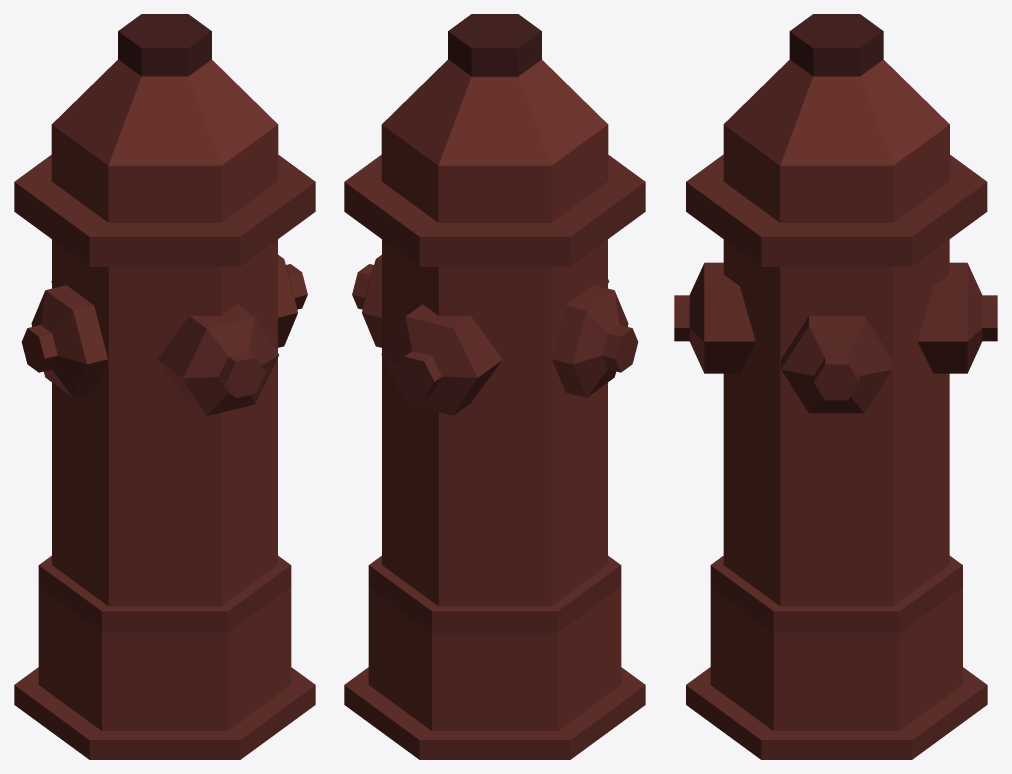
File: P_FIRE HYDRANTfbx.fbx
3 renders of one model, left to right at view 1: azimuth 30°, elevation 25°; view 2: azimuth 150°, elevation 25°; view 3: azimuth 270°, elevation 25°, orthographic.
Visible parts, largest first — view 1: Fire_Hydrant; view 2: Fire_Hydrant; view 3: Fire_Hydrant.
Part boxes in pixels (bbox=[...]): Fire_Hydrant: bbox=[14, 14, 315, 759]; Fire_Hydrant: bbox=[344, 14, 645, 759]; Fire_Hydrant: bbox=[674, 14, 997, 759].
Size of the model in its own units: 36.81 by 90.01 by 39.19.
